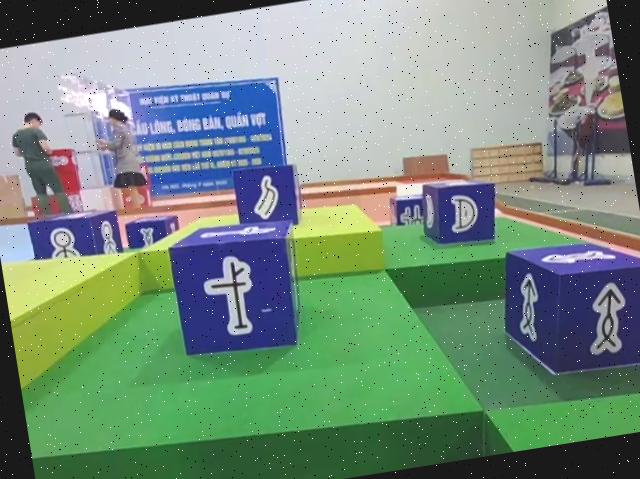R2 Real Blue: (491, 231, 640, 386), (165, 215, 312, 364), (416, 172, 503, 253), (25, 206, 121, 267), (230, 160, 306, 236), (123, 212, 180, 251), (386, 190, 428, 227)
